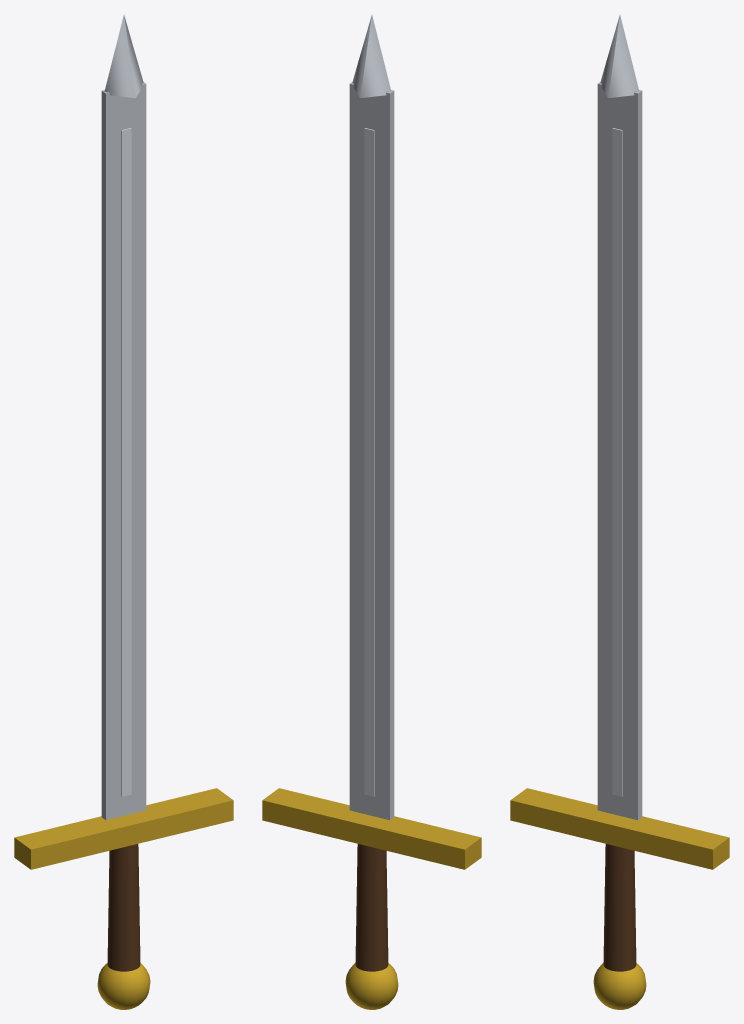
File: sword.glb
The picture shows the model from 3 angles, left to right: view 1: azimuth 30°, elevation 25°; view 2: azimuth 150°, elevation 25°; view 3: azimuth 330°, elevation 25°; orthographic projection.
Parts seen in each view (by area): view 1: blade, guard, fuller, grip, pommel, tip; view 2: blade, guard, fuller, grip, pommel, tip; view 3: blade, guard, fuller, grip, pommel, tip.
Part boxes in pixels (bbox=[...]): blade: bbox=[101, 82, 146, 820]; guard: bbox=[14, 788, 233, 869]; fuller: bbox=[121, 128, 131, 796]; grip: bbox=[107, 844, 140, 971]; pommel: bbox=[97, 962, 150, 1009]; tip: bbox=[104, 15, 143, 98]; blade: bbox=[349, 82, 394, 820]; guard: bbox=[262, 788, 481, 869]; fuller: bbox=[364, 128, 374, 796]; grip: bbox=[355, 844, 388, 971]; pommel: bbox=[345, 962, 398, 1009]; tip: bbox=[352, 15, 391, 98]; blade: bbox=[597, 82, 642, 820]; guard: bbox=[510, 788, 729, 869]; fuller: bbox=[612, 128, 622, 796]; grip: bbox=[603, 844, 636, 971]; pommel: bbox=[593, 962, 646, 1009]; tip: bbox=[600, 15, 639, 98].
Size of the model in its own units: 0.21 by 0.9845 by 0.048.
